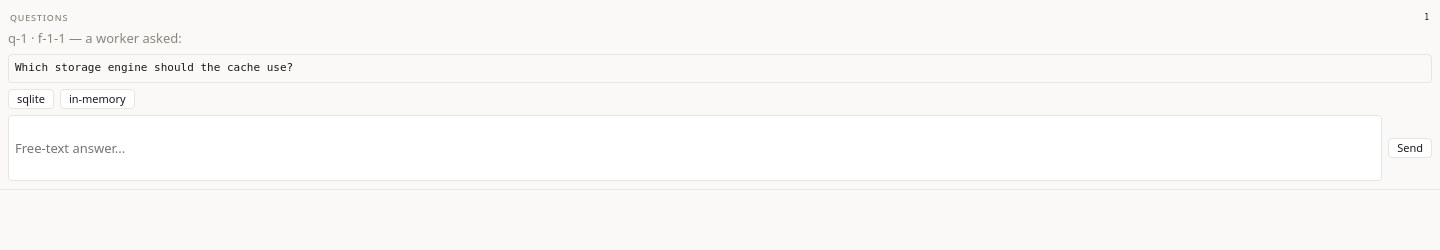
QuestionRequestPanel › surfaces an error verbatim in a role="alert" block
This screenshot has width=1440, height=250.
Click the button "sqlite": (31, 99) [8, 89, 54, 109]
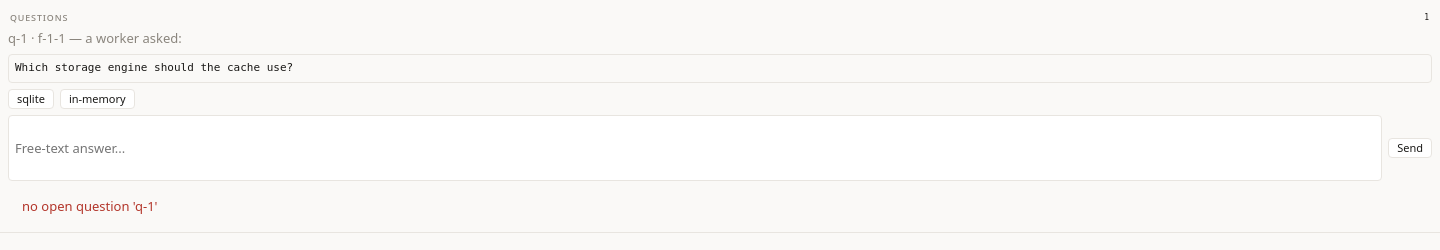
Expected: the message reads "no open question 'q-1'", [22, 197, 158, 215]
